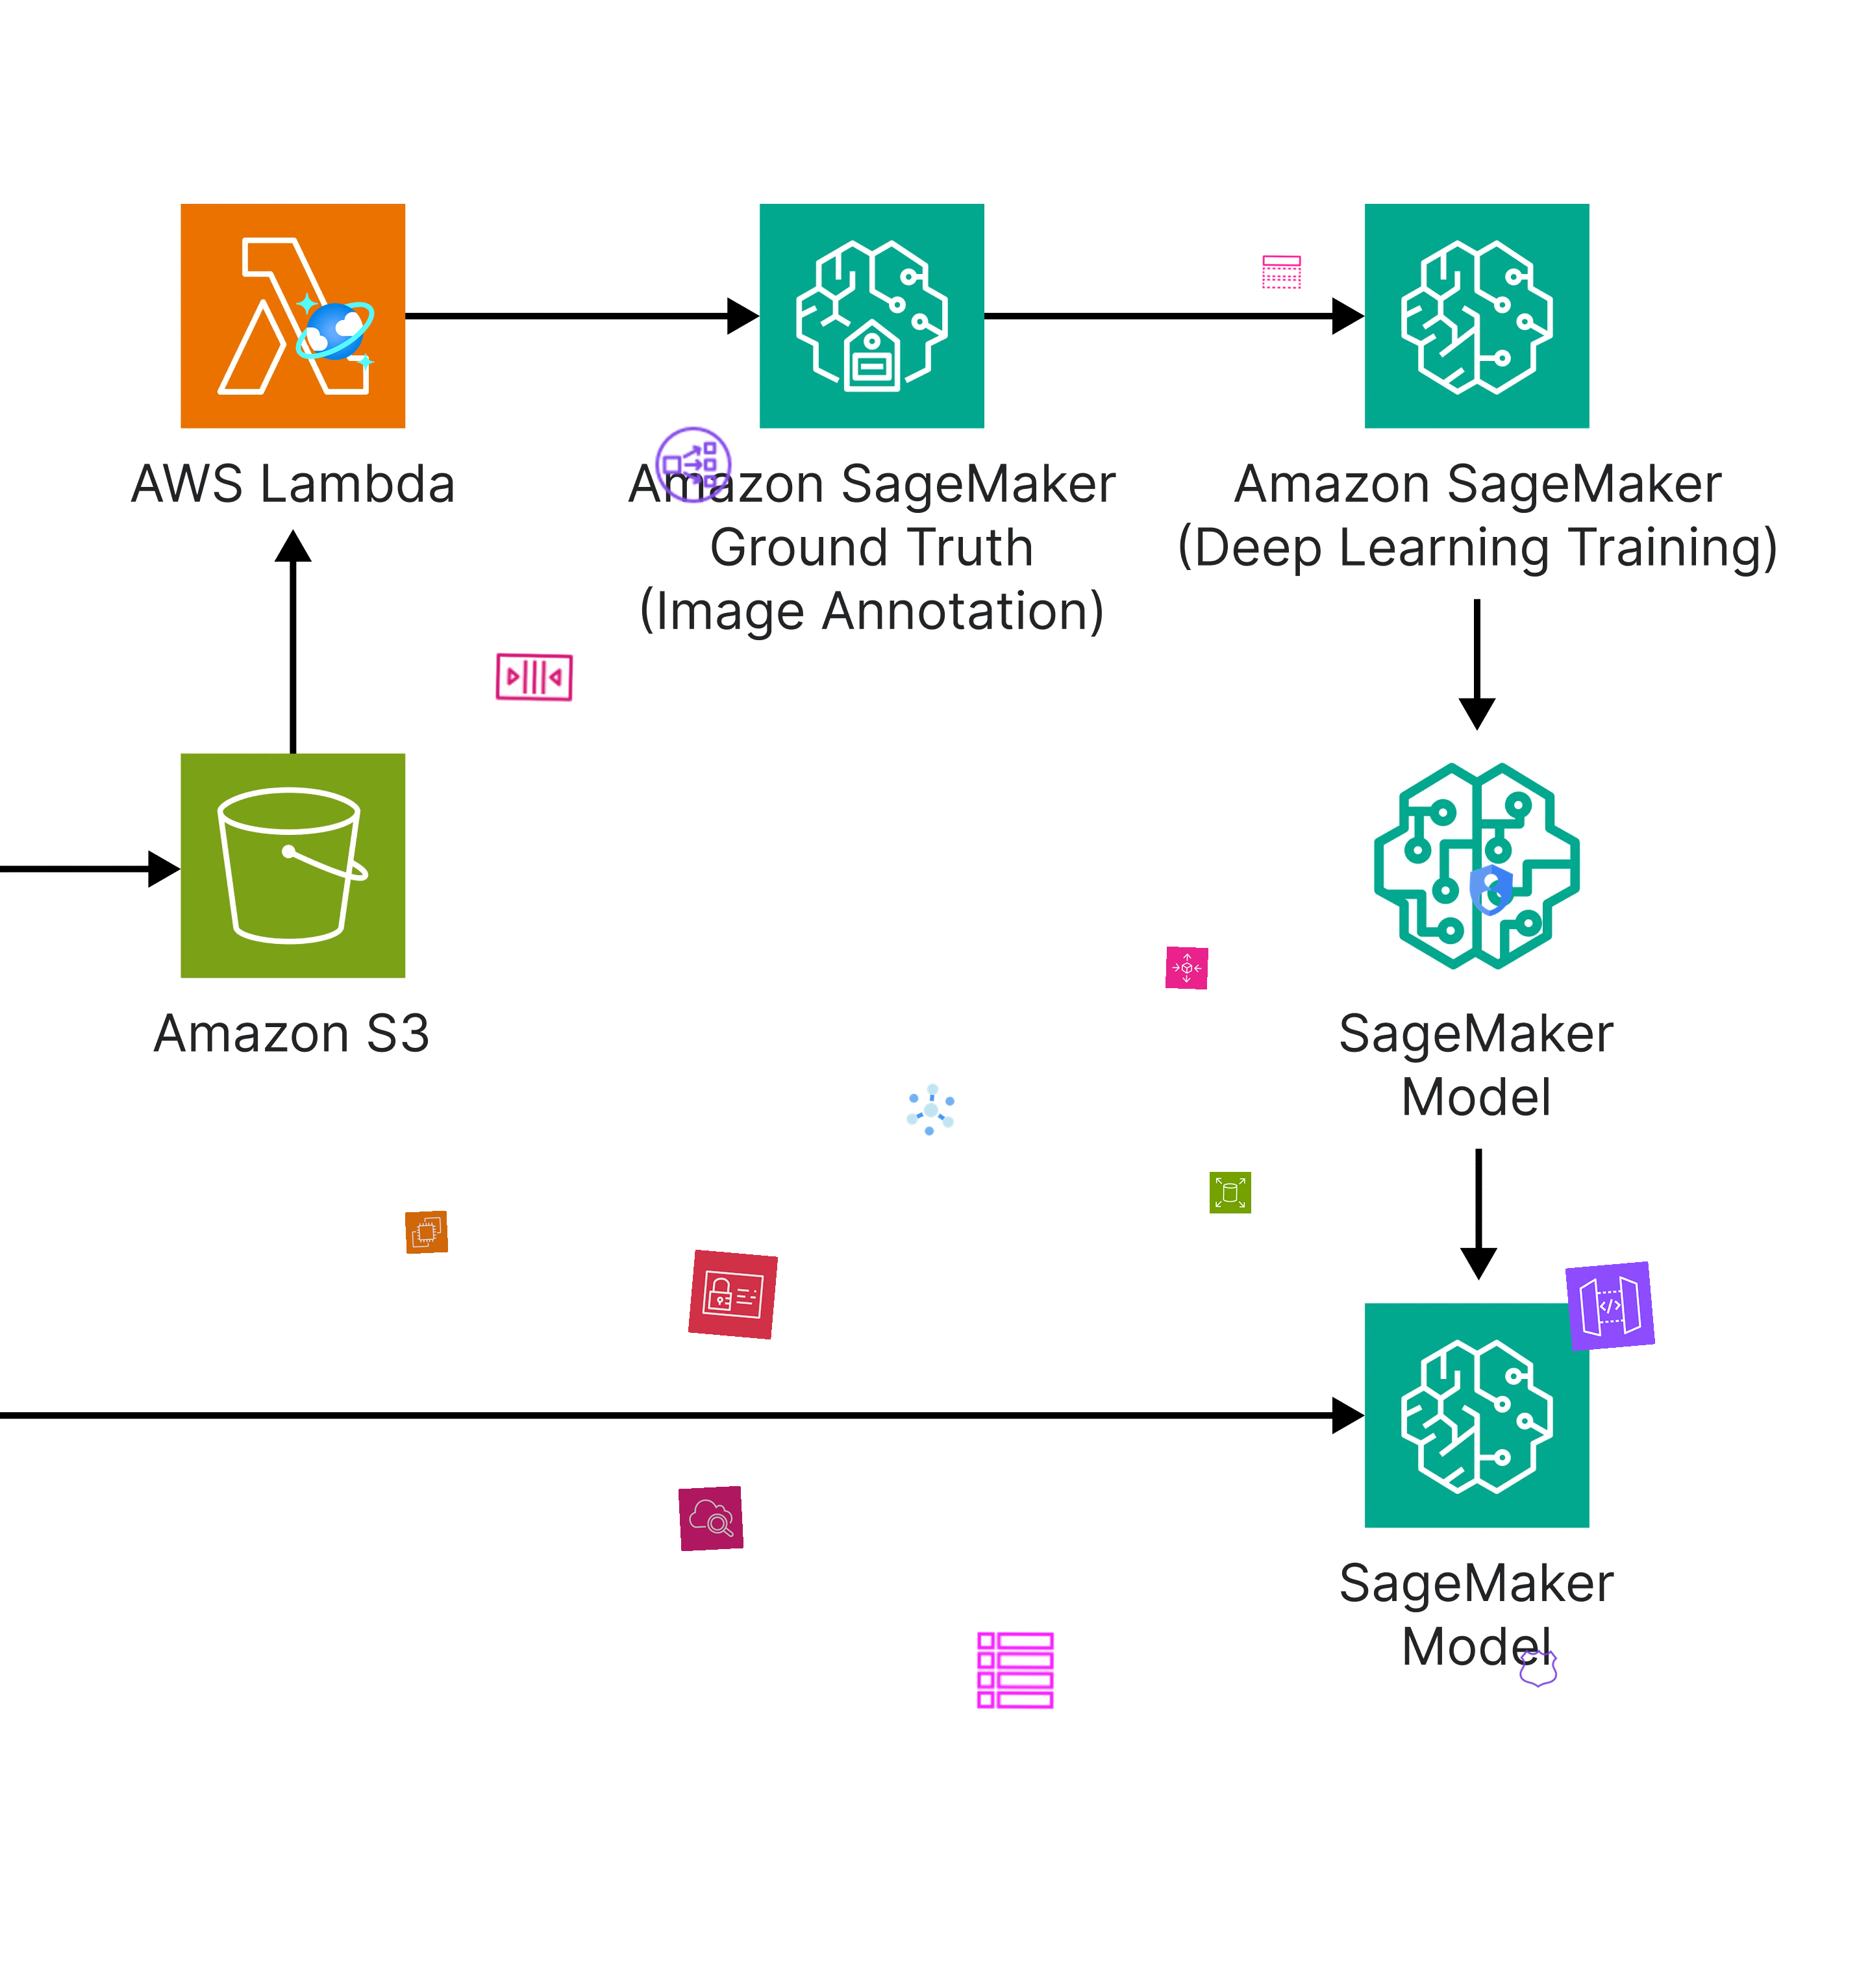aws_amazon_api_gateway: (1564, 1260, 1656, 1352)
aws_amazon_cloudwatch: (678, 1485, 743, 1552)
aws_amazon_ec2: (404, 1209, 448, 1255)
aws_amazon_elastic_block_store: (1209, 1171, 1251, 1215)
aws_auto_scaling: (1165, 946, 1209, 990)
aws_dynamodb_table: (974, 1628, 1058, 1712)
aws_elastic_load_balancing_network_load_balancer: (652, 422, 736, 506)
aws_identity_and_access_management: (687, 1250, 779, 1339)
aws_route_53_hosted_zone: (1517, 1647, 1561, 1689)
aws_simple_notification_service_topic: (1260, 251, 1302, 294)
aws_simple_queue_service_queue: (492, 635, 576, 719)
azure_cosmos_db: (294, 290, 378, 374)
gcp_identity_and_access_management: (1457, 858, 1524, 923)
gcp_pubsub: (898, 1076, 965, 1143)
